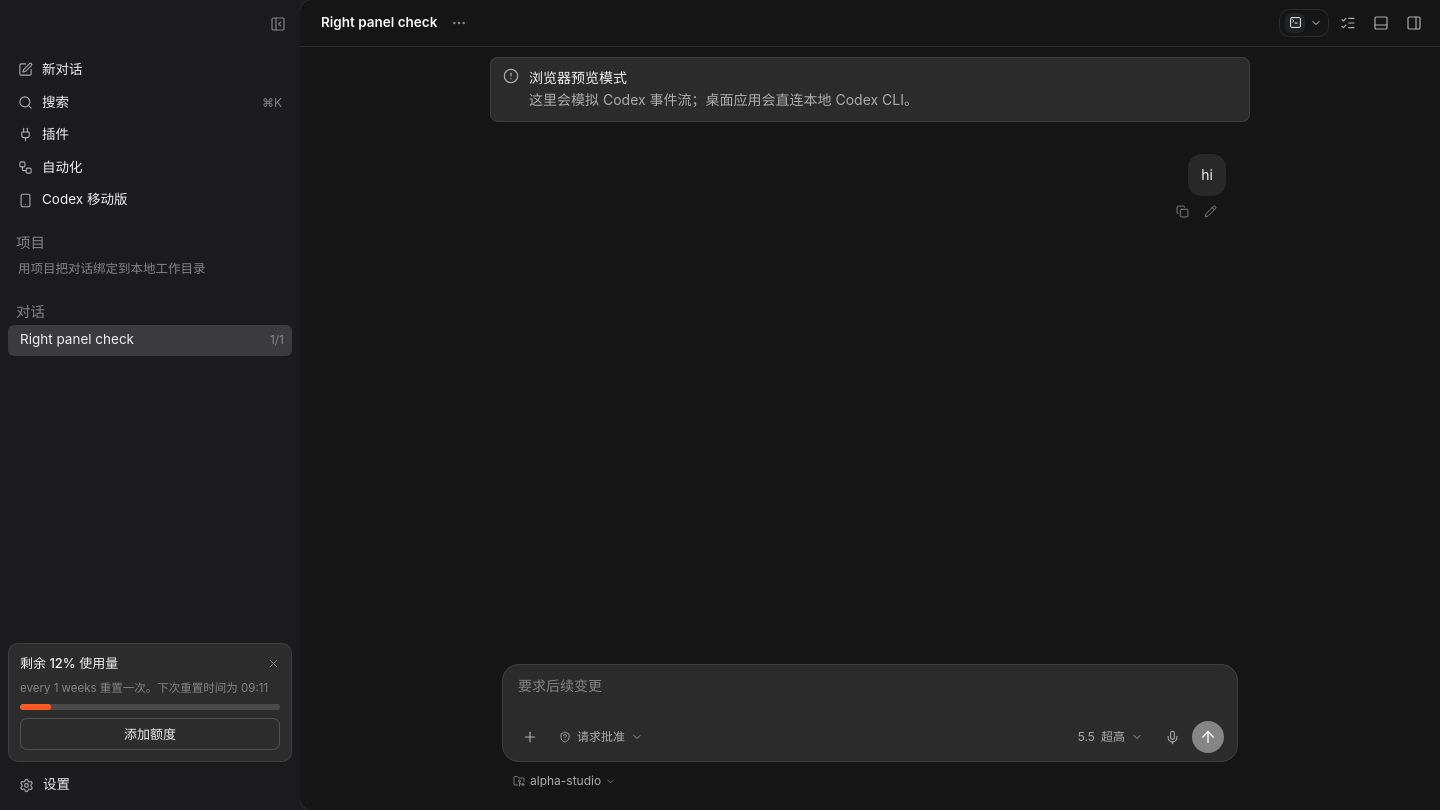
Test: right feature panel › opens the top-right terminal button as the bottom terminal panel
This screenshot has width=1440, height=810.
Click the button named "打开下方终端". click: (1380, 22)
box: [1366,8,1395,37]
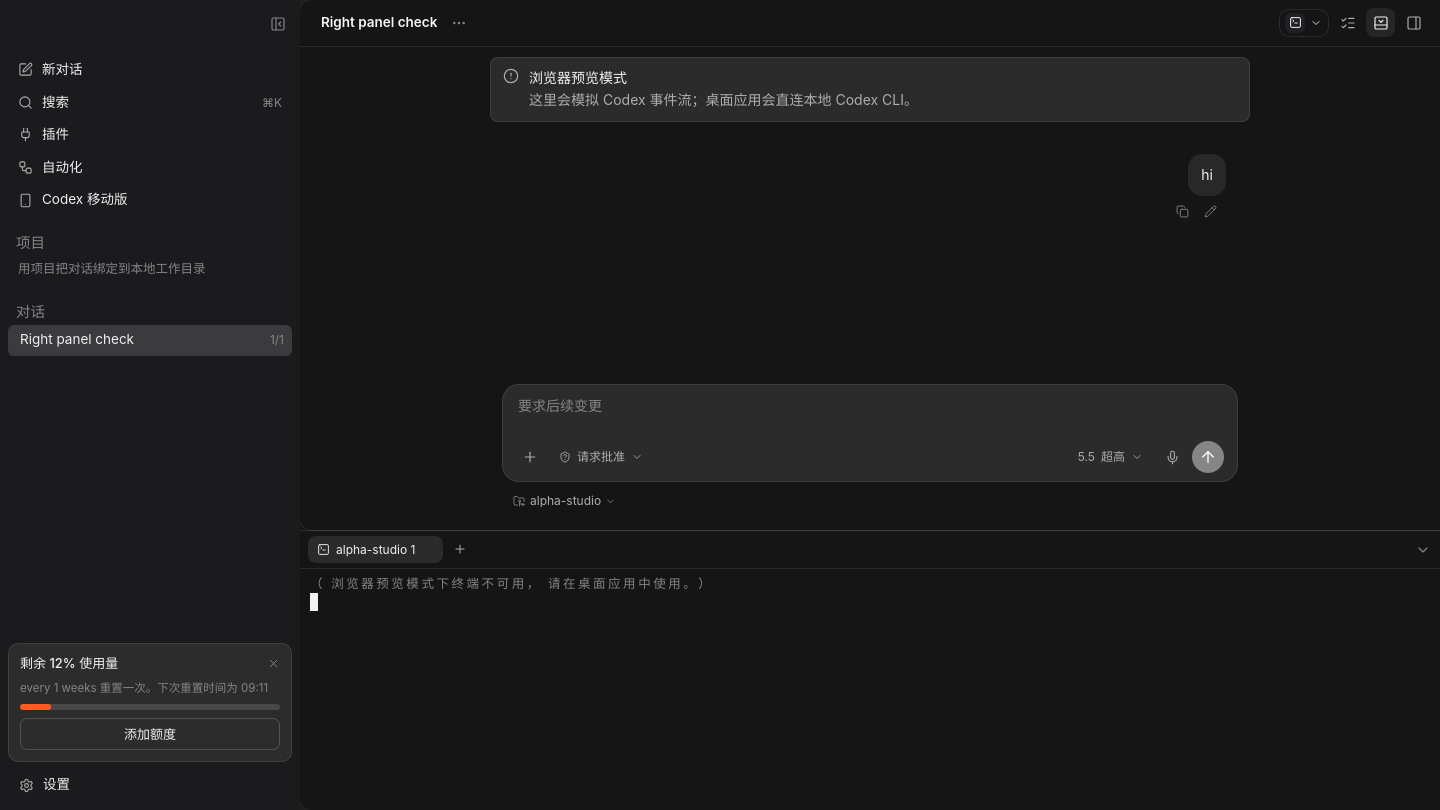
Now the element with class "terminal-panel" is shown, box [300,530,1439,809]
